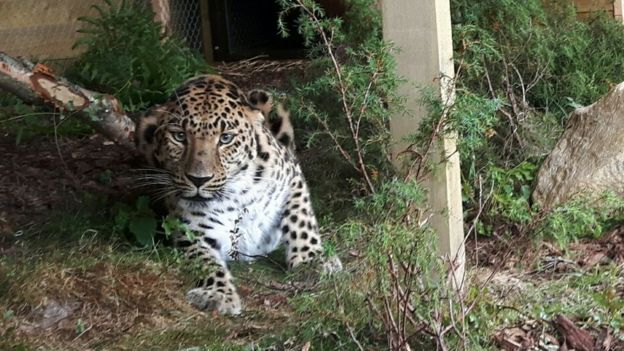amur_leopard: (72, 39, 359, 312)
